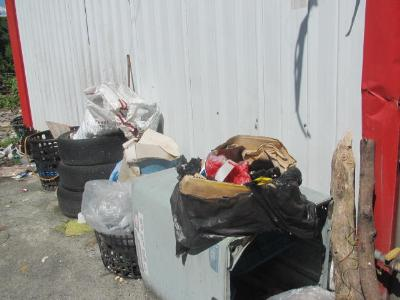plastic_bag: (172, 158, 321, 254), (71, 79, 162, 147)
tire: (57, 131, 130, 164)
